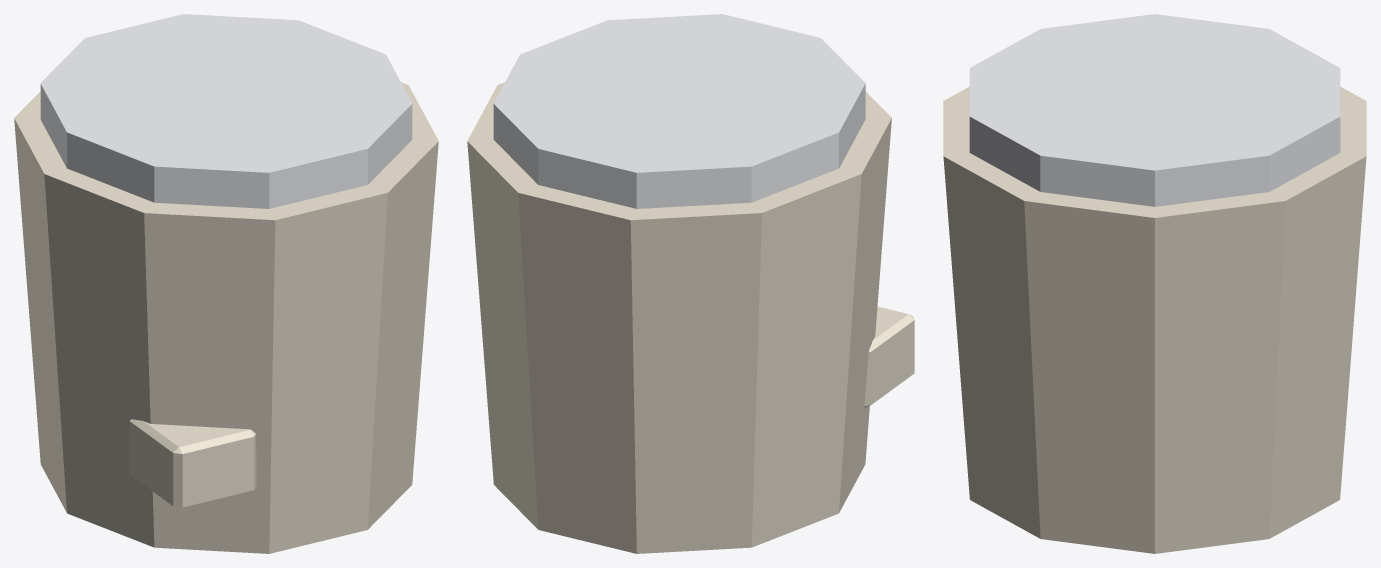
File: b17_striped_volleyball.glb
3 renders of one model, left to right at view 1: azimuth 30°, elevation 25°; view 2: azimuth 150°, elevation 25°; view 3: azimuth 270°, elevation 25°, orthographic.
Parts seen in each view (by area): view 1: b17_striped_volleyball; view 2: b17_striped_volleyball; view 3: b17_striped_volleyball.
Part boxes in pixels (x1,y1,x2,y2): b17_striped_volleyball: (14, 14, 438, 553); b17_striped_volleyball: (467, 14, 914, 553); b17_striped_volleyball: (943, 14, 1366, 553).
Bounding box in the file's own units: 0.21 × 0.21 × 0.21.
